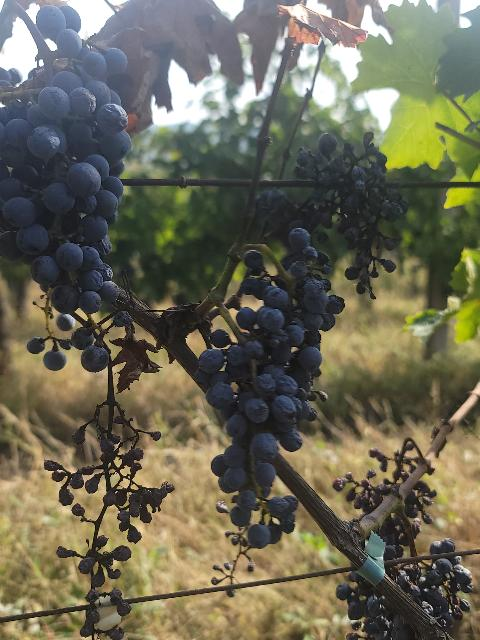grapes: (0, 6, 131, 329), (194, 329, 299, 570), (241, 228, 344, 424)
